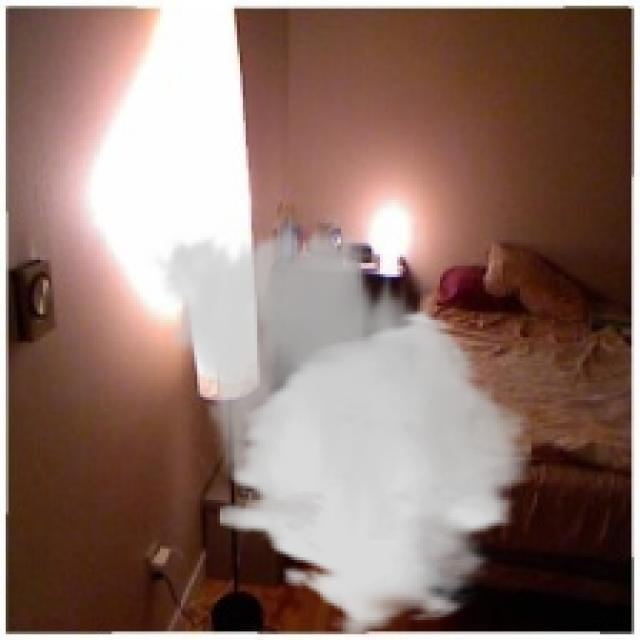smoke: (146, 212, 531, 637)
